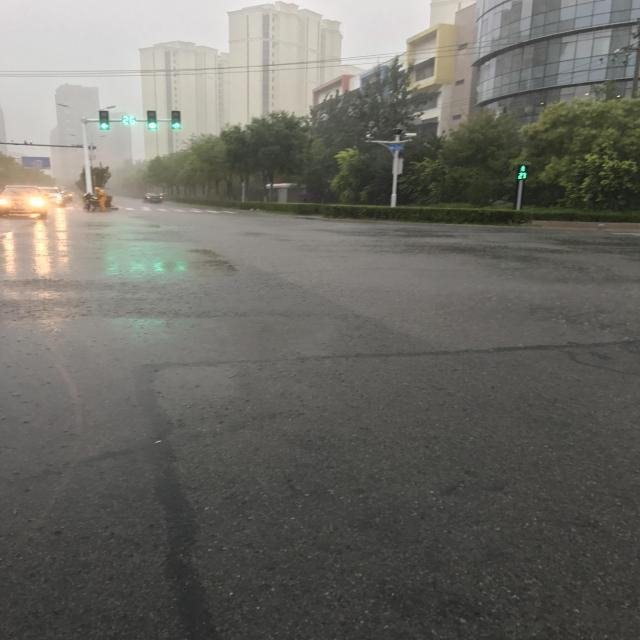car: (184, 594, 220, 640), (186, 578, 206, 602), (192, 474, 202, 496)
